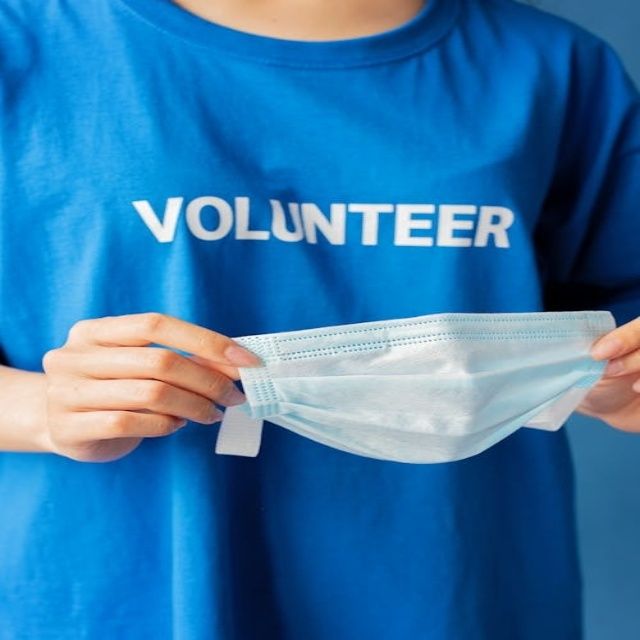Sin_guantes: (37, 309, 258, 465), (572, 303, 639, 434)
